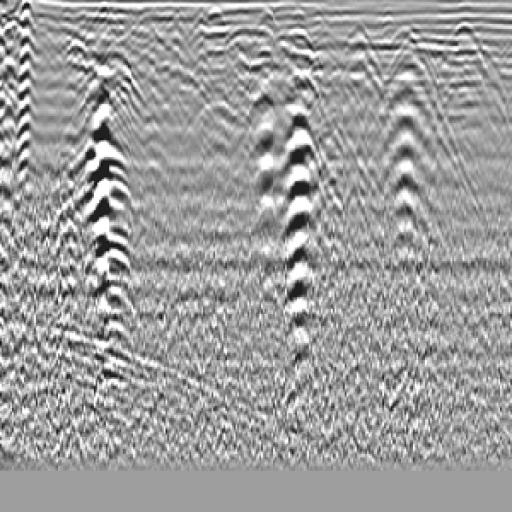metalic: (161, 48, 280, 225)
